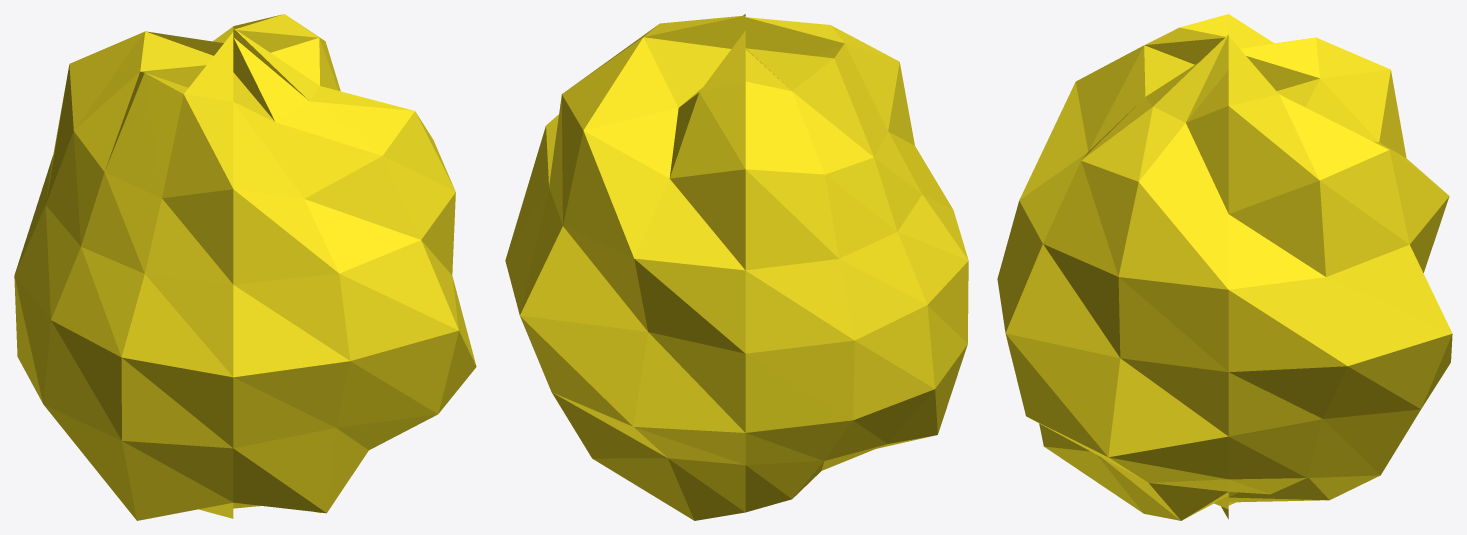
Rendered from asteroid_low_2.obj.
3 views of the same model, side by side, from view 1: azimuth 30°, elevation 25°; view 2: azimuth 150°, elevation 25°; view 3: azimuth 270°, elevation 25° (orthographic).
Visible parts, largest first — view 1: asteroid_low; view 2: asteroid_low; view 3: asteroid_low.
Boxes of the visible parts, x1,y1,x2,y2 form: asteroid_low: [14, 14, 476, 520]; asteroid_low: [505, 14, 968, 520]; asteroid_low: [997, 14, 1452, 520].
Size of the model in its own units: 1.94 by 2.34 by 1.99.
